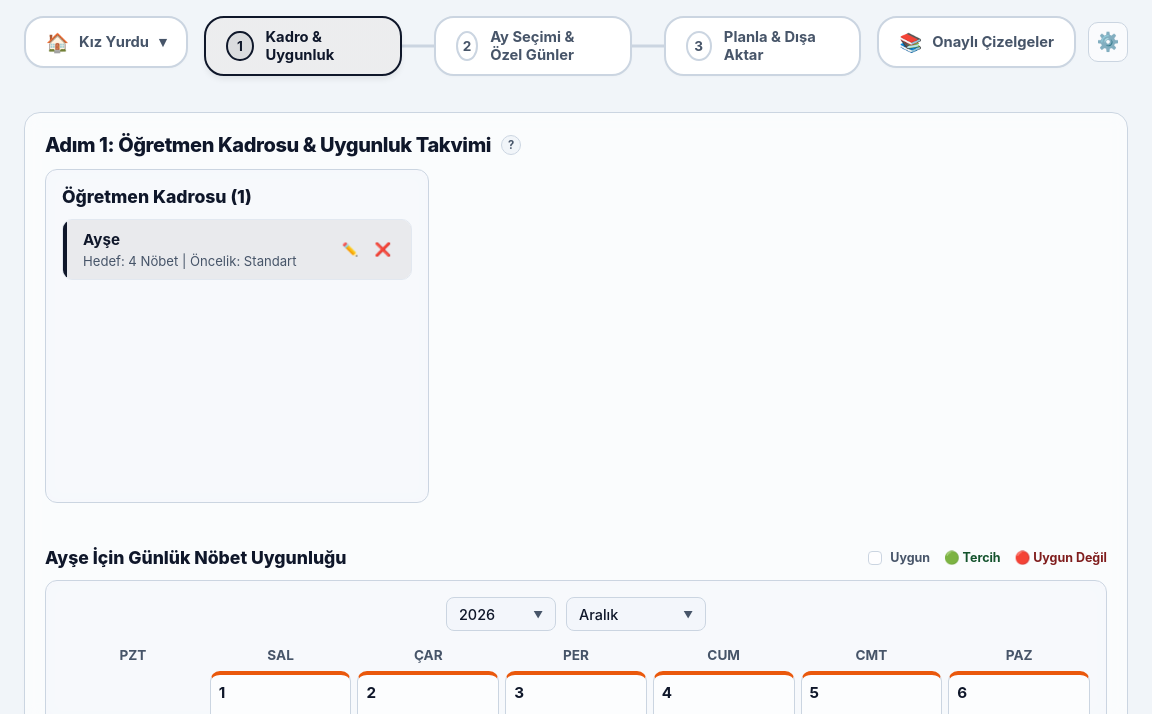
Test: exporting one duty report for every duty post › is disabled, with the reason, when there is only one duty post
Expected: the text "Adım 1: Öğretmen Kadrosu & Uygunluk Takvimi" is shown, left=45, top=133, right=491, bottom=157
Click the text "Planla & Dışa Aktar" at x=770, y=46, box left=724, top=28, right=816, bottom=64
(page scrolled)
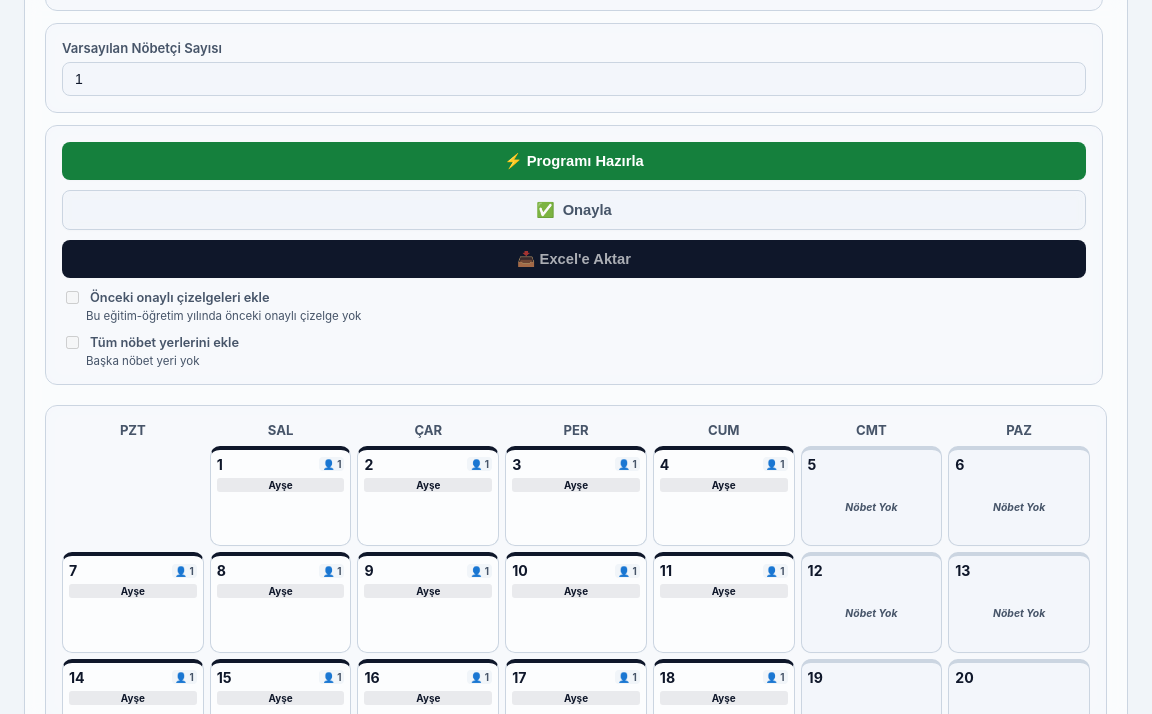
Now the button "📥 Excel'e Aktar" is shown, box left=62, top=240, right=1086, bottom=278
Now the checkbox labelled "Tüm nöbet yerlerini ekle" is disabled, box left=66, top=336, right=79, bottom=349
Now the text "Başka nöbet yeri yok" is shown, box left=86, top=354, right=200, bottom=368
